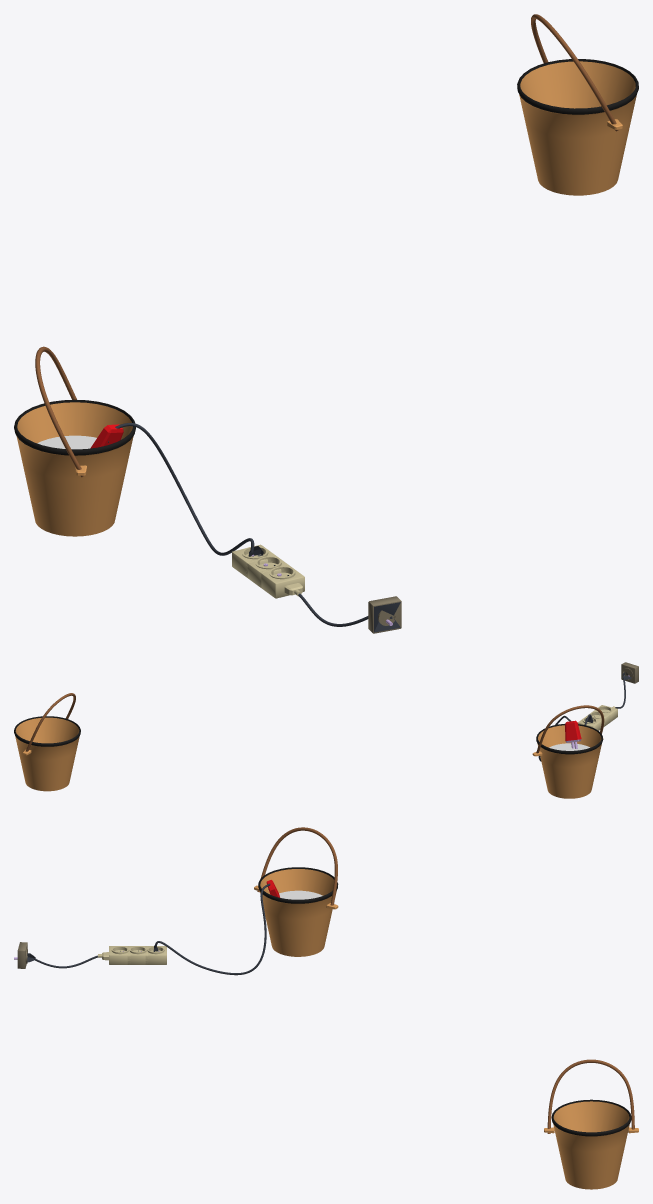
File: композиция с ведром.fbx
The picture shows the model from 3 angles, top to bottom: view 1: azimuth 30°, elevation 25°; view 2: azimuth 150°, elevation 25°; view 3: azimuth 270°, elevation 25°; orthographic projection. The views are drawn at different scales.
Parts seen in each view (by area): view 1: Цилиндр, Цилиндр.133, Куб.056, Куб.054, ТраекторияNurbs.008, ТраекторияNurbs.007, ТраекторияNurbs.013; view 2: Цилиндр, Цилиндр.133, Куб.056, ТраекторияNurbs.008, ТраекторияNurbs.007, Куб.058, Куб.054, Цилиндр.132; view 3: Цилиндр, Цилиндр.133, Куб.056, ТраекторияNurbs.007, ТраекторияNurbs.008, ТраекторияNurbs.013.
Boxes of the visible parts, <box> form: Цилиндр: <box>517,59,638,195</box>; Цилиндр.133: <box>14,399,135,536</box>; Куб.056: <box>232,544,304,598</box>; Куб.054: <box>368,596,401,633</box>; ТраекторияNurbs.008: <box>35,346,84,477</box>; ТраекторияNurbs.007: <box>531,14,619,131</box>; ТраекторияNurbs.013: <box>108,423,254,555</box>; Цилиндр: <box>14,716,80,791</box>; Цилиндр.133: <box>536,724,603,798</box>; Куб.056: <box>578,705,617,730</box>; ТраекторияNurbs.008: <box>536,705,604,753</box>; ТраекторияNurbs.007: <box>25,693,75,751</box>; Куб.058: <box>565,720,581,742</box>; Куб.054: <box>621,662,638,683</box>; Цилиндр.132: <box>549,743,589,750</box>; Цилиндр: <box>551,1099,631,1189</box>; Цилиндр.133: <box>258,867,338,956</box>; Куб.056: <box>109,946,166,964</box>; ТраекторияNurbs.007: <box>547,1059,634,1133</box>; ТраекторияNurbs.008: <box>257,827,337,905</box>; ТраекторияNurbs.013: <box>155,883,270,975</box>.
Size of the model in its own units: 678 by 132 by 672.
